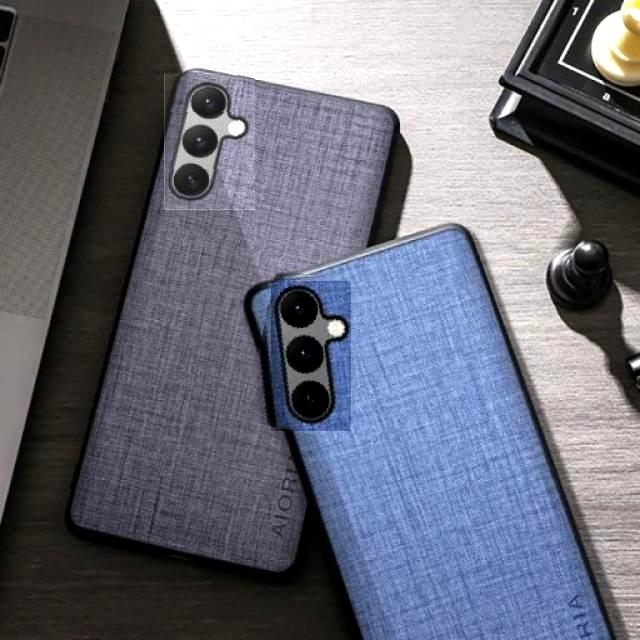lens_back: (284, 373, 340, 428), (277, 288, 323, 338), (284, 337, 332, 377), (191, 81, 232, 123), (172, 162, 218, 194), (183, 124, 221, 162)
